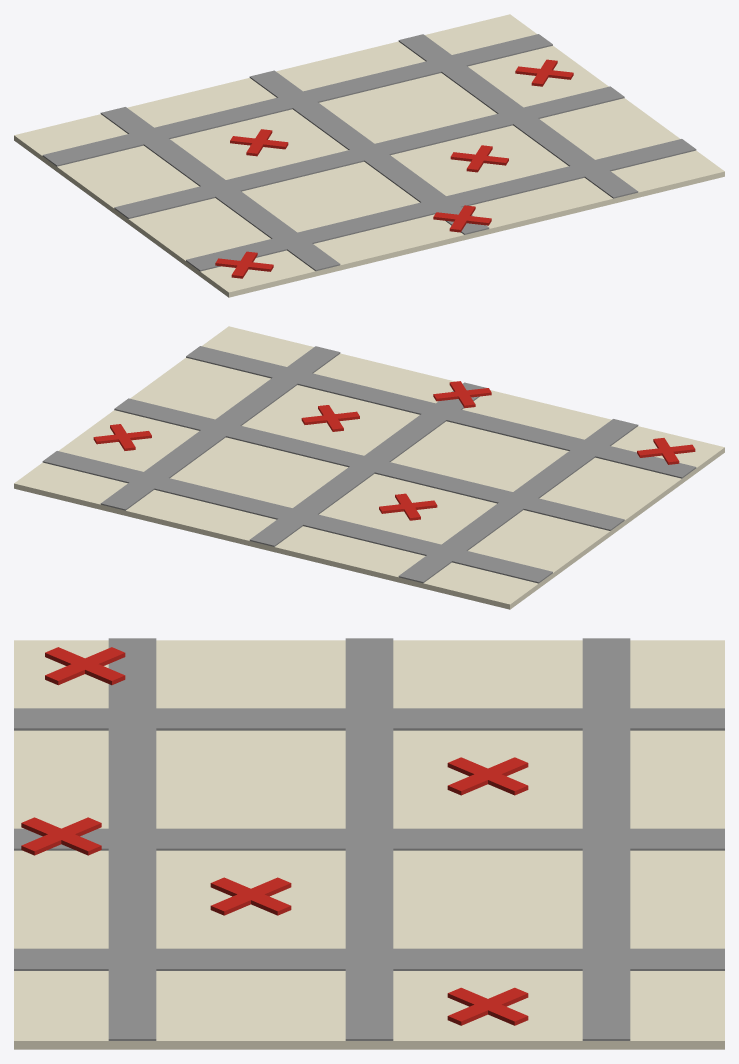
Rendered from crossed_map.glb.
The picture shows the model from 3 angles, top to bottom: view 1: azimuth 30°, elevation 25°; view 2: azimuth 150°, elevation 25°; view 3: azimuth 270°, elevation 25°; orthographic projection. The views are drawn at different scales.
Parts seen in each view (by area): view 1: sheet_map_paper, streets_street_grey (×6); view 2: sheet_map_paper, streets_street_grey (×6); view 3: sheet_map_paper, streets_street_grey (×6), crosses_cross_red (×10).
Boxes of the visible parts, bbox=[...] form: sheet_map_paper: bbox=[14, 14, 724, 297]; streets_street_grey (×6): bbox=[42, 34, 696, 271]; sheet_map_paper: bbox=[14, 326, 724, 609]; streets_street_grey (×6): bbox=[42, 346, 696, 583]; sheet_map_paper: bbox=[14, 640, 724, 1049]; streets_street_grey (×6): bbox=[14, 638, 724, 1040]; crosses_cross_red (×10): bbox=[21, 647, 528, 1025].
Size of the model in its own units: 0.4 by 0.007 by 0.3.
